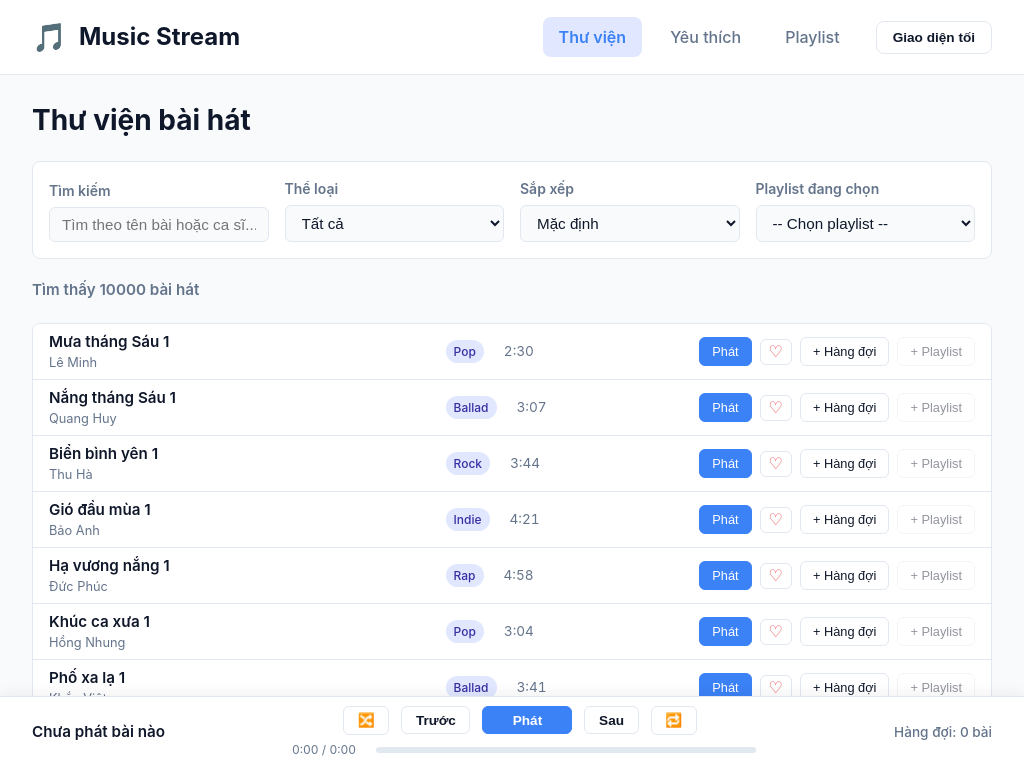
Khung ứng dụng và Routing › chuyển hướng sang Yêu thích và tô sáng mục Yêu thích
The width and height of the screenshot is (1024, 768).
Click the link "Yêu thích".
click(706, 37)  # box [670, 27, 741, 47]
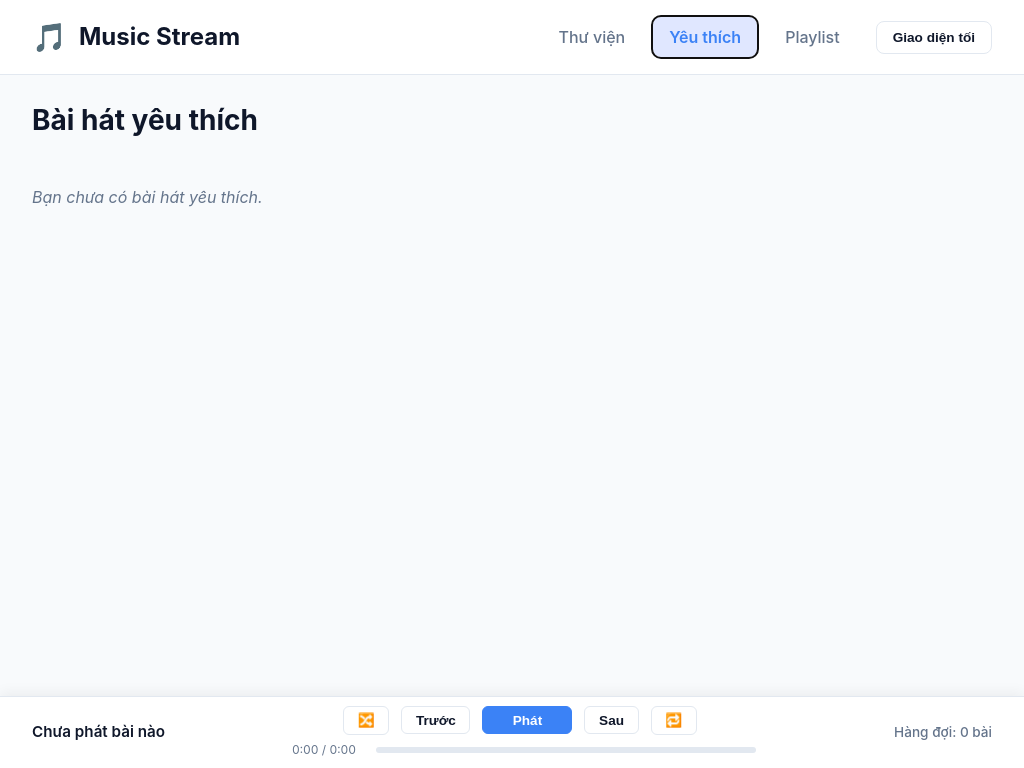
Now the heading "Bài hát yêu thích" is shown, box [32, 103, 258, 137]
